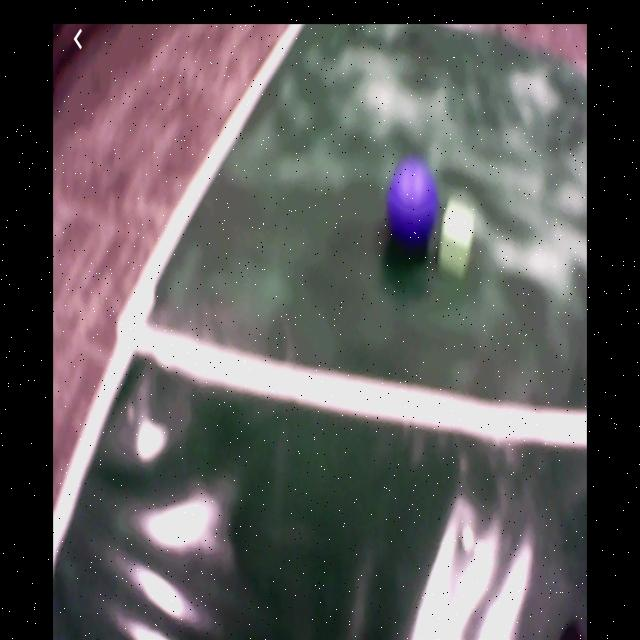ball: (388, 159, 439, 247)
